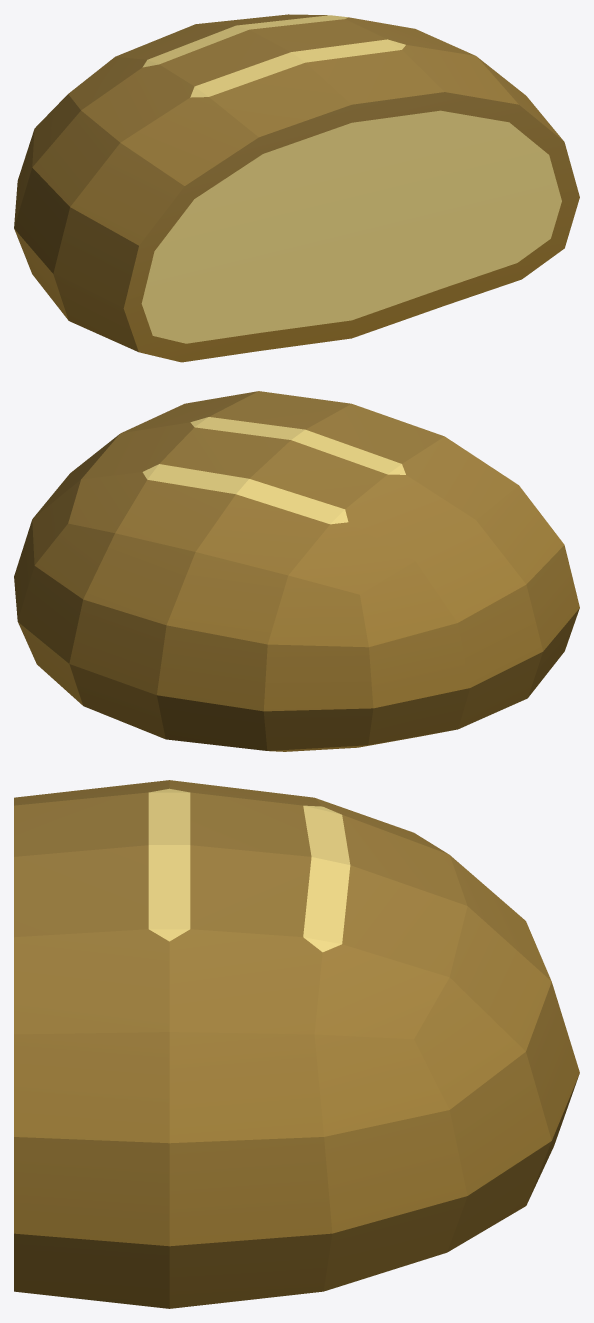
Rendered from bread_2b.glb.
The picture shows the model from 3 angles, top to bottom: view 1: azimuth 30°, elevation 25°; view 2: azimuth 150°, elevation 25°; view 3: azimuth 270°, elevation 25°; orthographic projection. The views are drawn at different scales.
Visible parts, largest first — view 1: bread_2b; view 2: bread_2b; view 3: bread_2b.
Boxes of the visible parts, x1=… form: bread_2b: x1=14, y1=14, x2=579, y2=362; bread_2b: x1=14, y1=391, x2=579, y2=751; bread_2b: x1=14, y1=780, x2=579, y2=1308.
Bounding box in the file's own units: 0.3494 × 0.1693 × 0.2409.
Materials: 1 (1 with a texture image).
